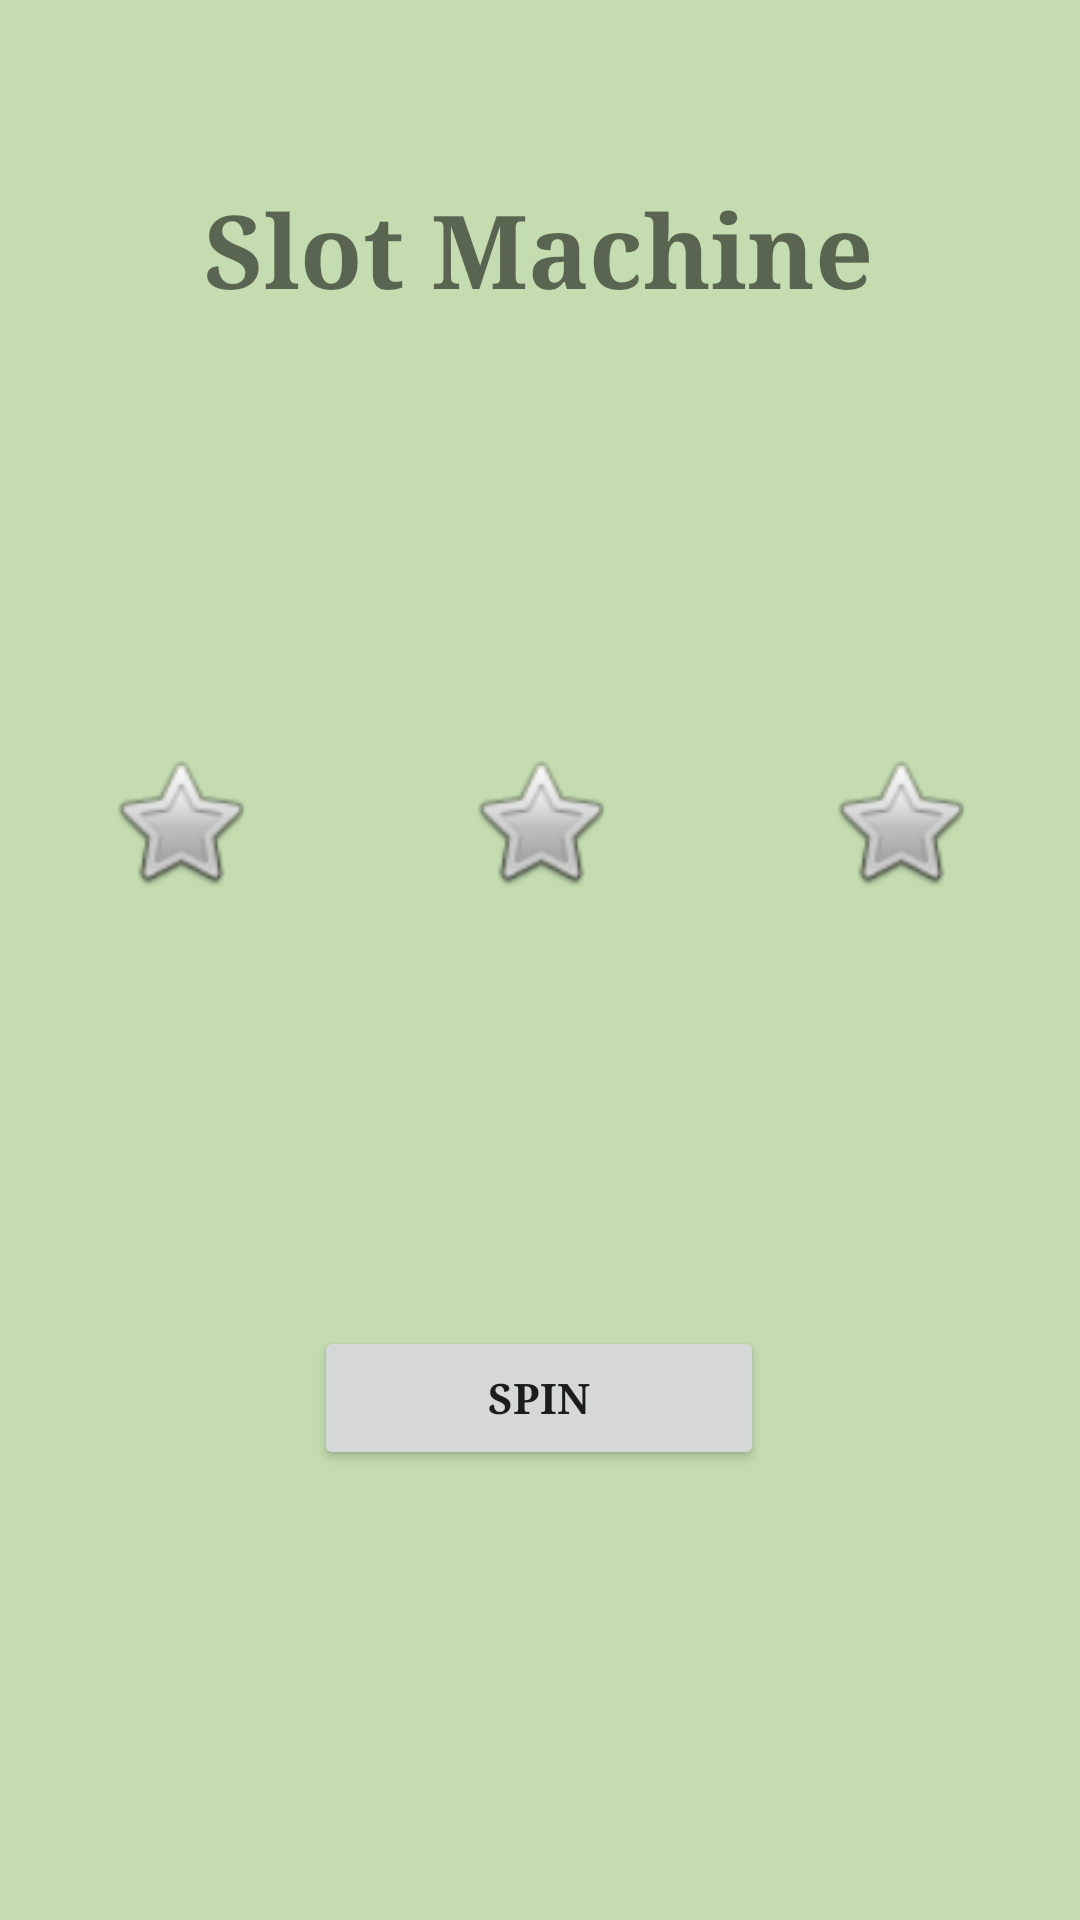

Where icons sit on this 1080w x 1920h app screen, as (x1, y1, x2, y2):
star: (119, 762, 244, 884), (479, 762, 604, 884), (839, 762, 964, 884)
